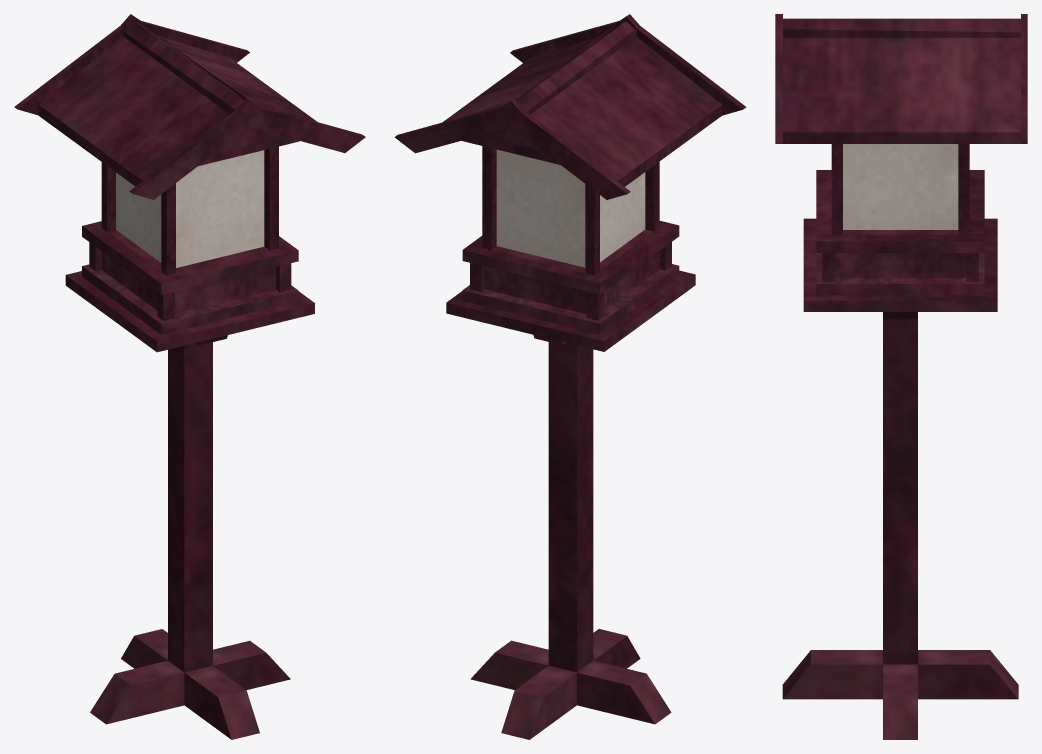
Rendered from NNJ0510055.fbx.
3 renders of one model, left to right at view 1: azimuth 30°, elevation 25°; view 2: azimuth 150°, elevation 25°; view 3: azimuth 270°, elevation 25°, orthographic. The views are drawn at different scales.
Parts seen in each view (by area): view 1: smNNJ0510055; view 2: smNNJ0510055; view 3: smNNJ0510055.
Boxes of the visible parts, box(x1,y1,x2,y2) form: smNNJ0510055: box(14, 14, 365, 739); smNNJ0510055: box(394, 14, 746, 739); smNNJ0510055: box(775, 14, 1027, 739).
Size of the model in its own units: 94.3 by 247 by 83.24.
1 material, 1 textured.
